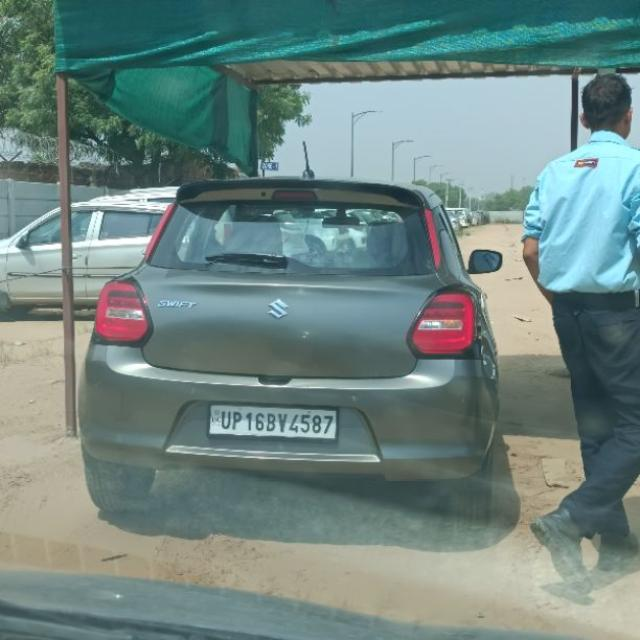license_plate: (206, 402, 338, 441)
